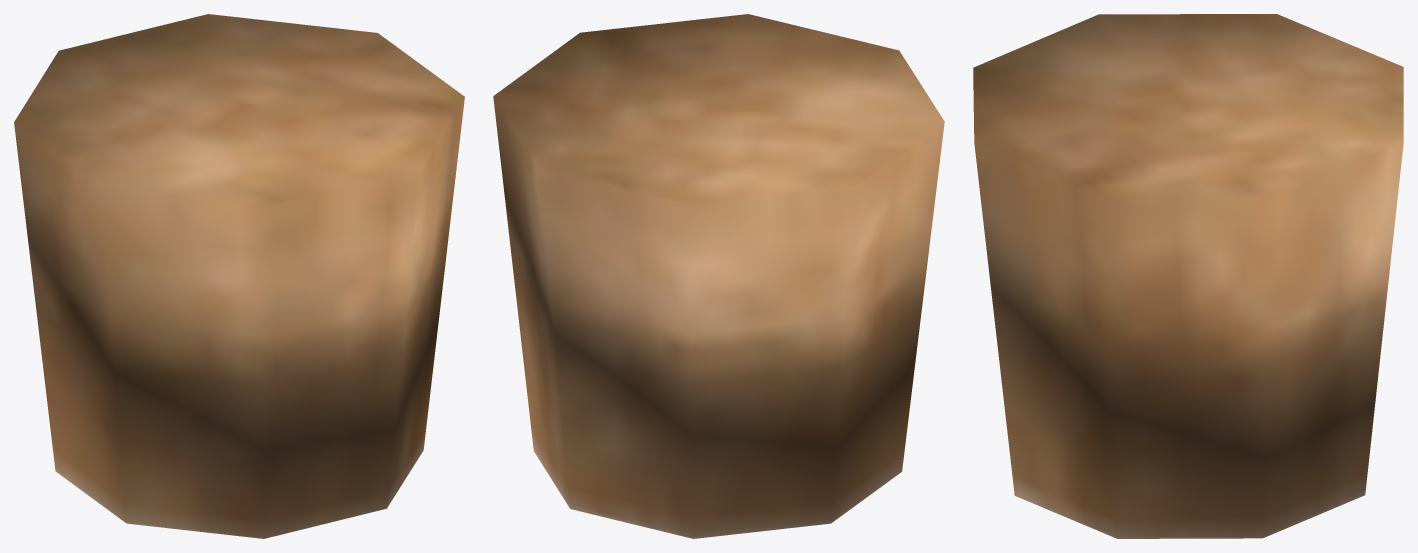
File: cork_2_2.fbx
The picture shows the model from 3 angles, left to right: view 1: azimuth 30°, elevation 25°; view 2: azimuth 150°, elevation 25°; view 3: azimuth 270°, elevation 25°; orthographic projection. The views are drawn at different scales.
Parts seen in each view (by area): view 1: cork_2_2; view 2: cork_2_2; view 3: cork_2_2.
Part boxes in pixels (left/top/right/bottom): cork_2_2: left=14, top=14, right=464, bottom=538; cork_2_2: left=493, top=14, right=944, bottom=538; cork_2_2: left=973, top=14, right=1403, bottom=538.
Bounding box in the file's own units: 3.65 × 3.38 × 3.66.
Materials: 1 (1 with a texture image).
